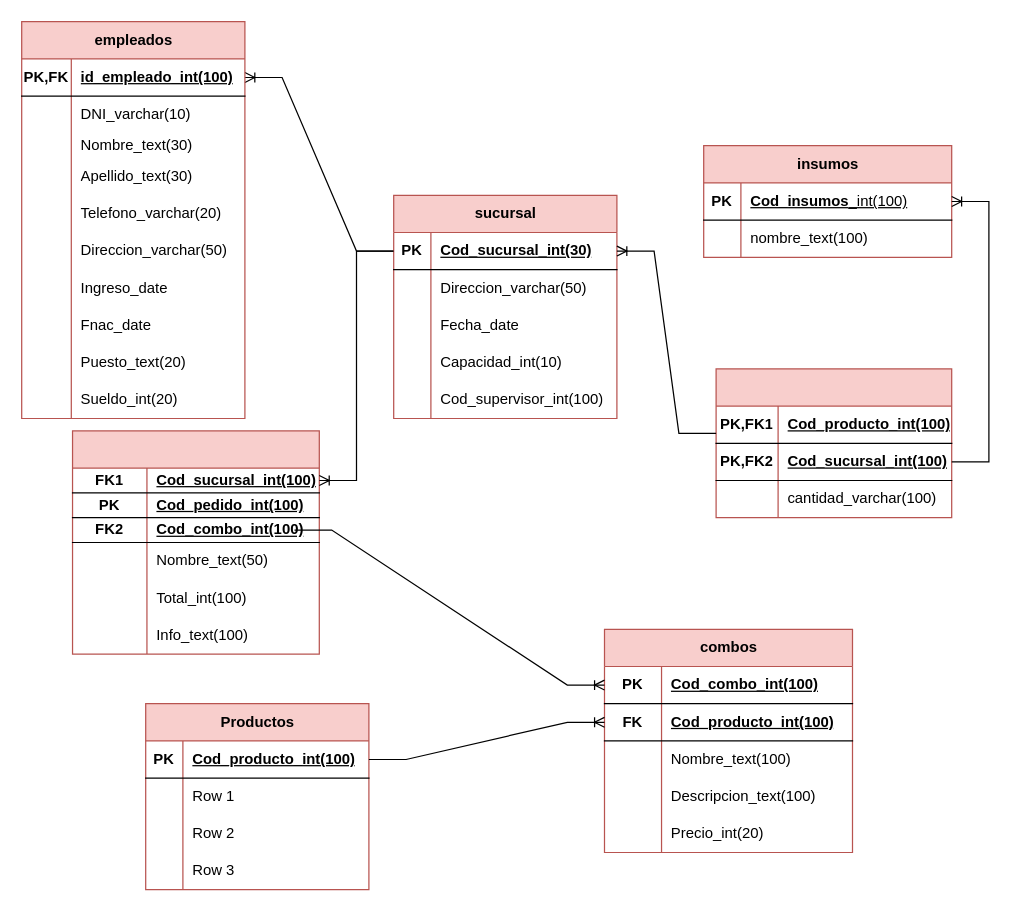
This 1021x911 diagram has some shape labels left out. The shapes that lost their labels are listed below. From the top down, each one's box as (x1, y1, x2, y2) in pixels, then its label:
(715, 368, 952, 518): stock
(71, 430, 319, 654): pedidos
